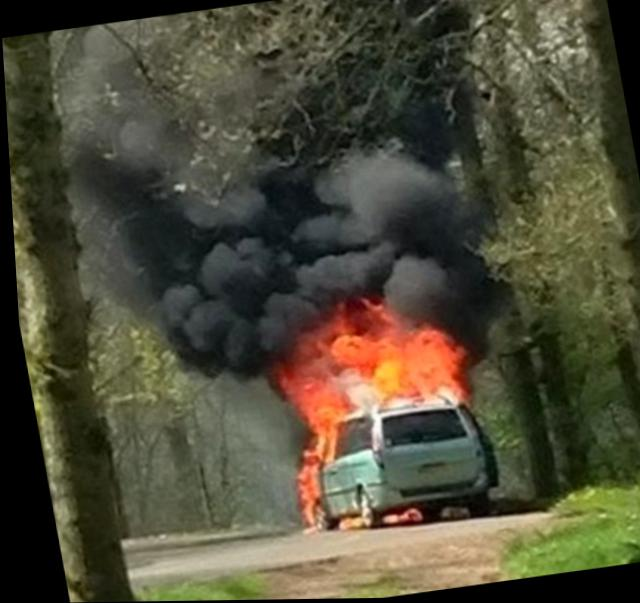fire: (333, 322, 455, 405), (294, 303, 391, 367), (276, 358, 344, 424), (284, 452, 316, 523), (305, 418, 338, 464)
